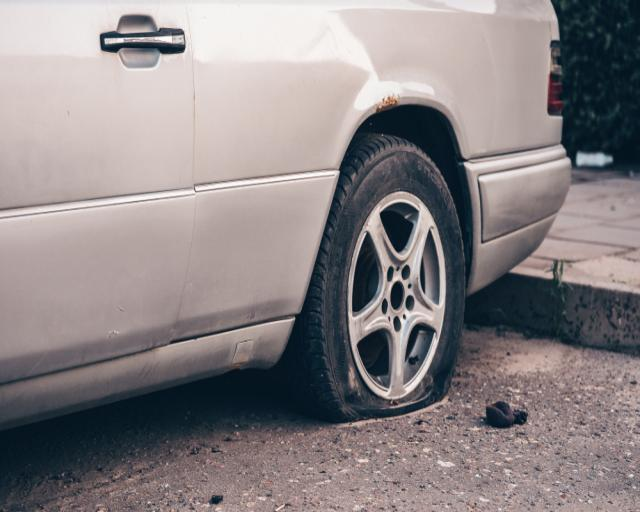tire flat: (299, 132, 466, 424)
